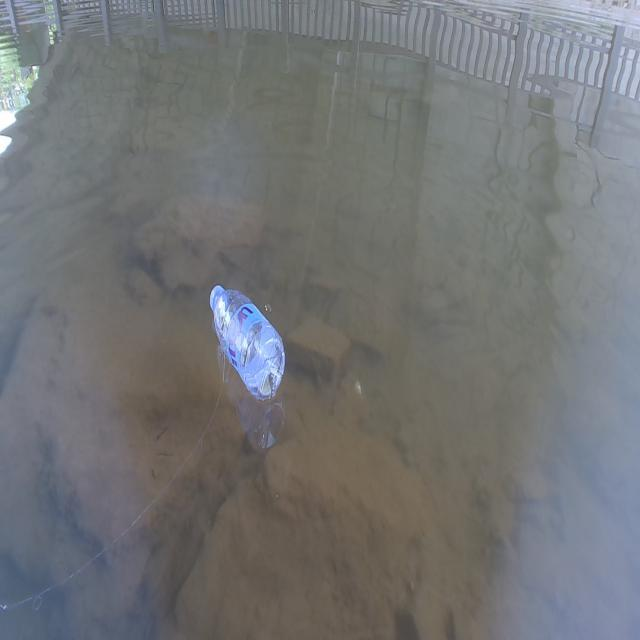bottle: (189, 251, 306, 421)
